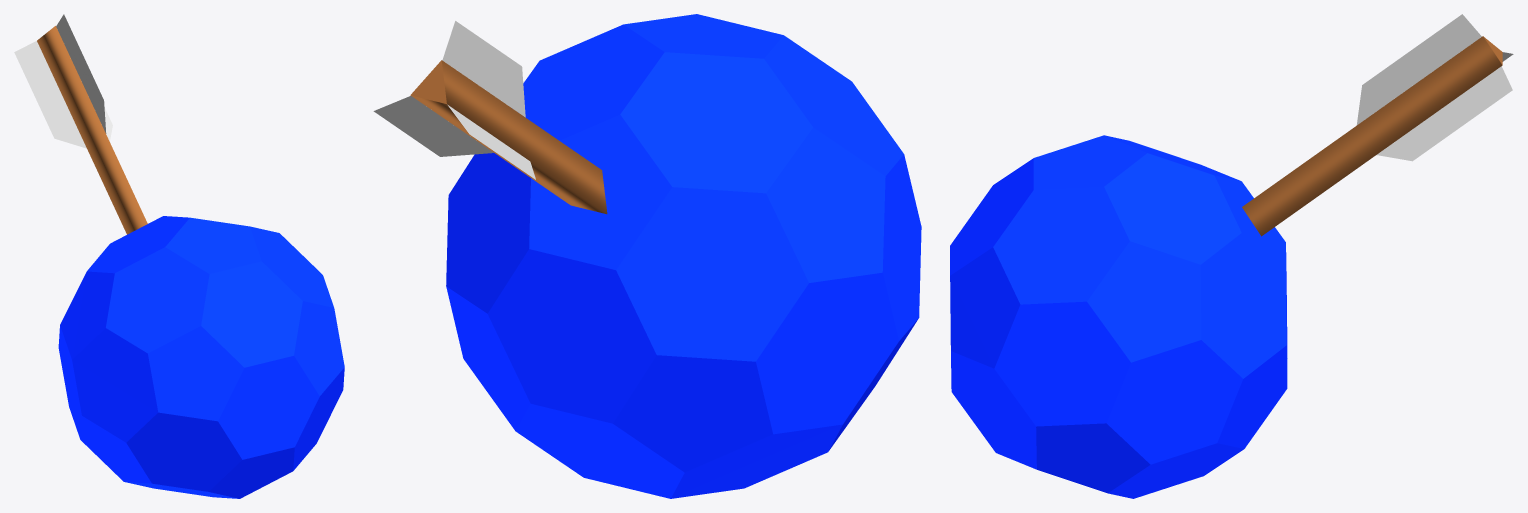
The model's file is Arrow_Ice.fbx.
3 renders of one model, left to right at view 1: azimuth 30°, elevation 25°; view 2: azimuth 150°, elevation 25°; view 3: azimuth 270°, elevation 25°, orthographic. The views are drawn at different scales.
Parts seen in each view (by area): view 1: Platonic, Wood, Feather2, Feather3; view 2: Platonic, Wood, Feather3, Feather1, Feather2; view 3: Platonic, Wood, Feather3, Feather1.
Boxes of the visible parts, box(x1,y1,x2,y2) form: Platonic: box(58, 216, 344, 498); Wood: box(37, 26, 147, 234); Feather2: box(14, 41, 86, 148); Feather3: box(56, 14, 106, 133); Platonic: box(446, 14, 921, 498); Wood: box(410, 60, 607, 214); Feather3: box(442, 21, 525, 117); Feather1: box(373, 96, 493, 156); Feather2: box(447, 104, 535, 179); Platonic: box(950, 135, 1287, 498); Wood: box(1242, 36, 1502, 236); Feather3: box(1356, 14, 1481, 125); Feather1: box(1377, 66, 1512, 161).
Size of the model in its own units: 22.59 by 32.38 by 35.42.
